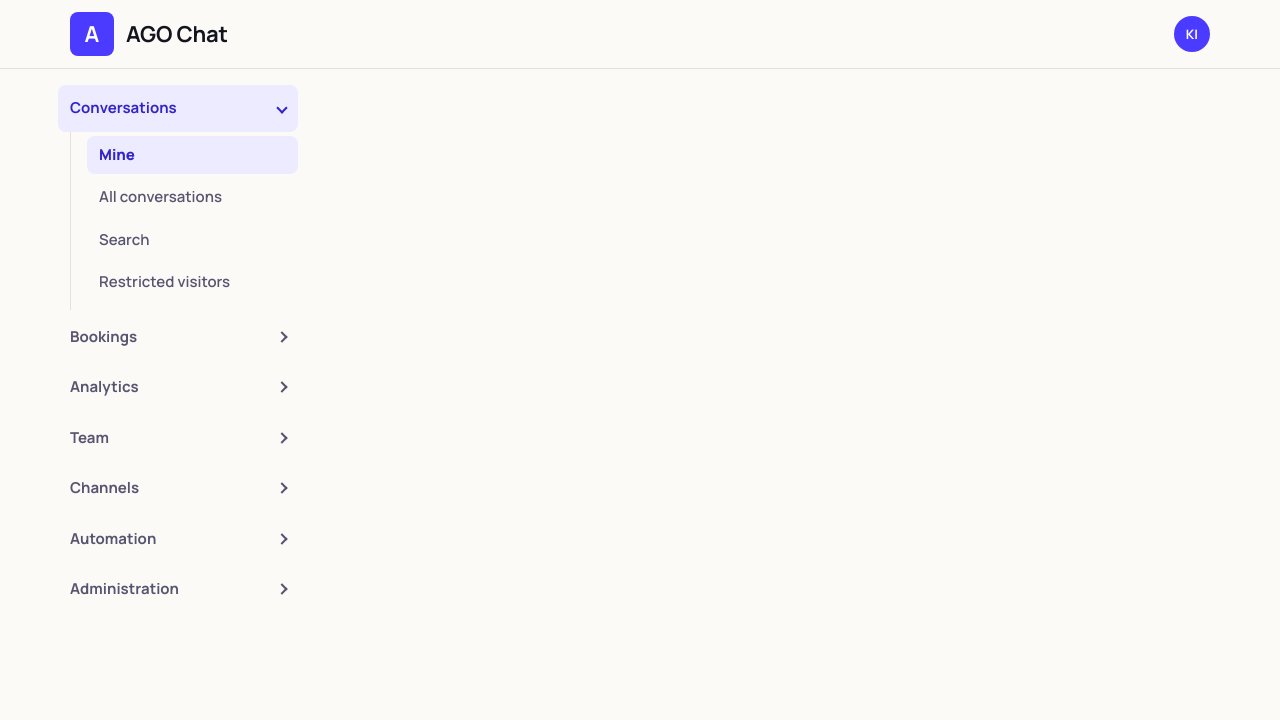
Scenario: the buyable badge on the calendar's muted entry › carries a visible, translated badge naming why - present on the muted calendar entry, absent from an ordinary link
Click the button with class "ago-shell__rail-section" showing "Analytics": (178,387) [58, 364, 298, 410]
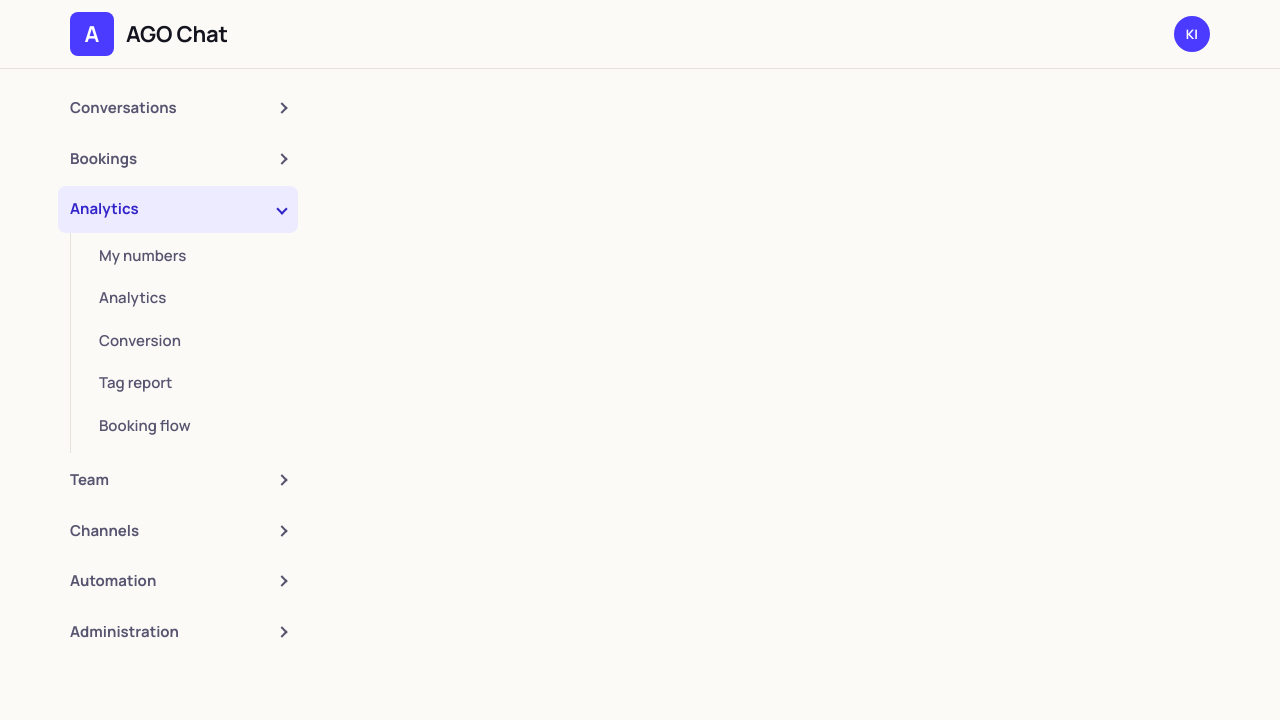
Click the button with class "ago-shell__rail-section" showing "Bookings": (178,159) [58, 136, 298, 182]
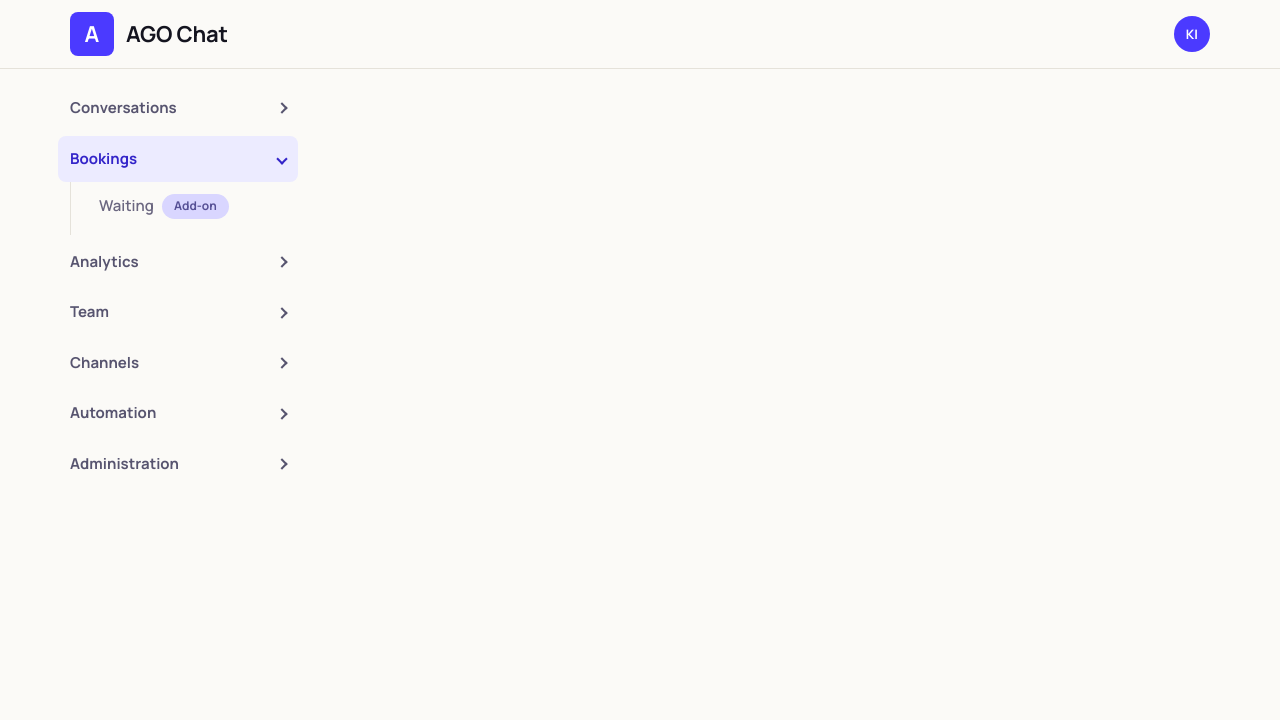
Expected: the text with class "ago-shell__nav-link-label" reads "Waiting", [99, 195, 154, 216]
Expected: the text with class "ago-badge" reads "Add-on", [174, 197, 217, 214]
